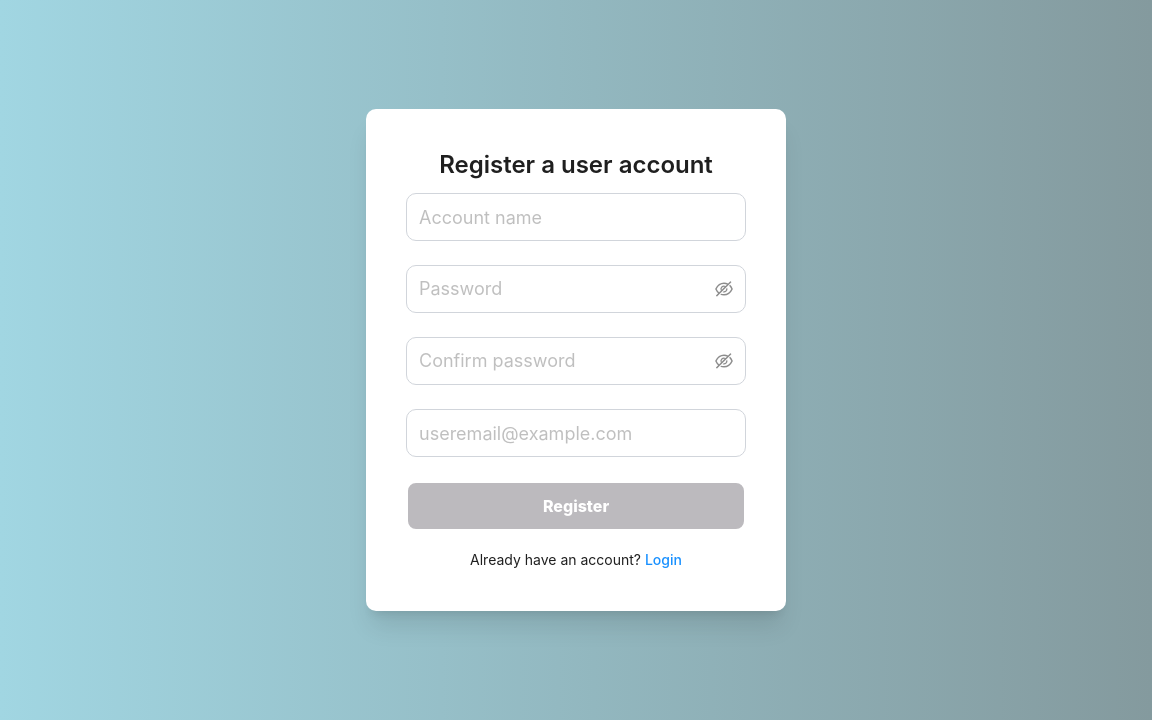
Test case: RegisterPage › shows validation errors for empty fields
This screenshot has width=1152, height=720.
Click the button "Register": (576, 506) 406,481 -> 746,531
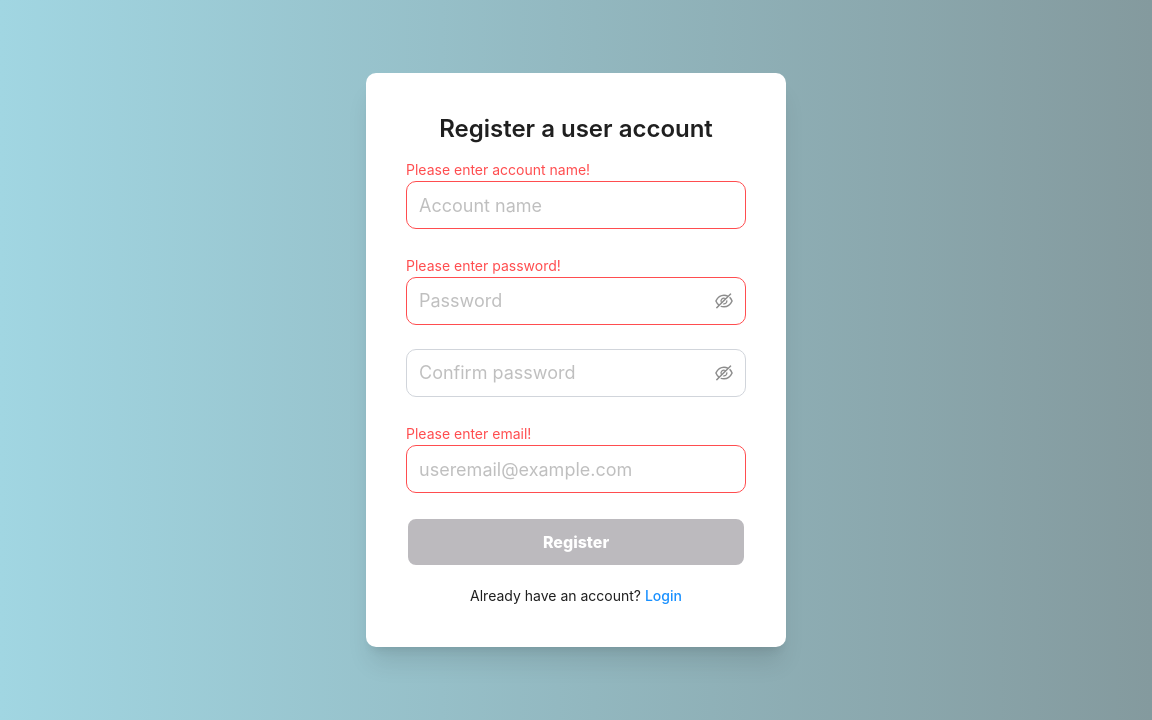
Now the text "Please enter account name!" is shown, box 406,161 -> 590,178
Now the text "Please enter password!" is shown, box 406,257 -> 561,274
Now the text "Please enter email!" is shown, box 406,425 -> 531,442
